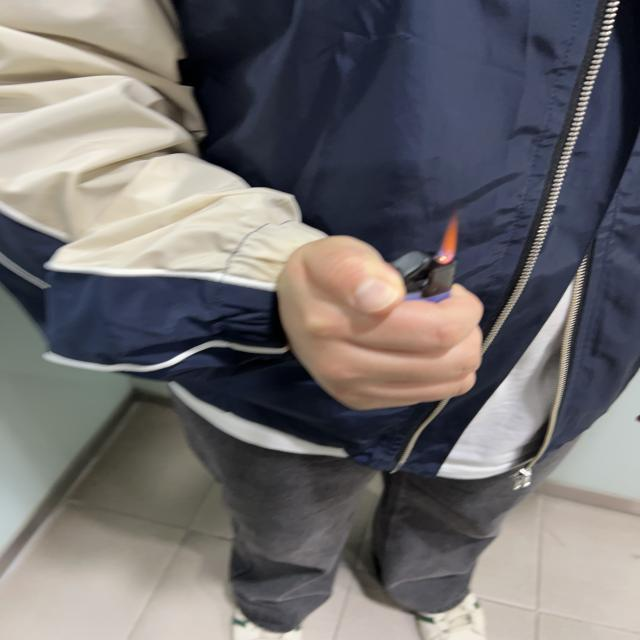fire: (432, 210, 458, 263)
